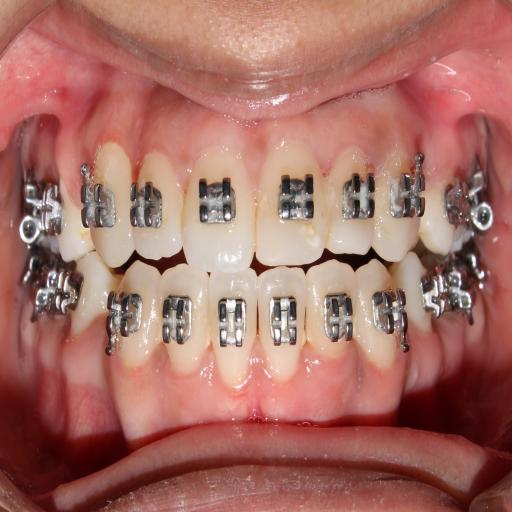correct_brace: (192, 170, 244, 236), (336, 163, 378, 231), (274, 165, 320, 225), (126, 172, 166, 241), (319, 284, 357, 352), (158, 289, 198, 352), (214, 291, 250, 358), (266, 286, 300, 356)
incorrect_brace: (126, 141, 184, 264), (155, 262, 214, 382), (324, 138, 378, 258), (303, 260, 358, 374)
